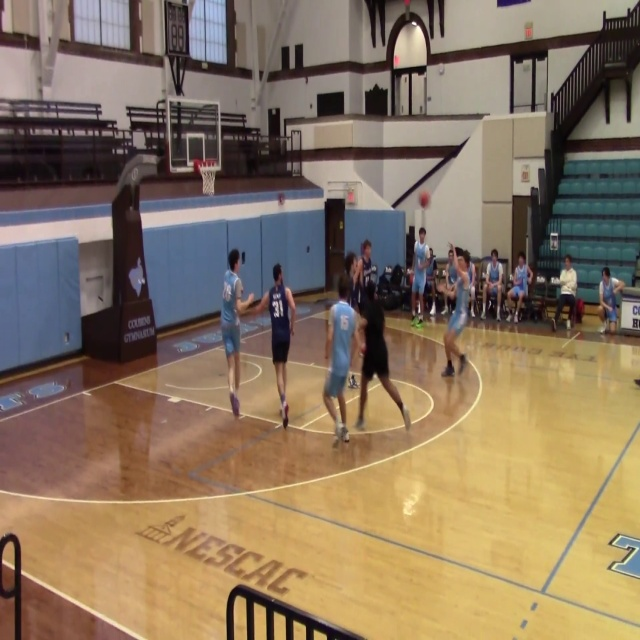Basketball: (419, 191, 430, 207)
